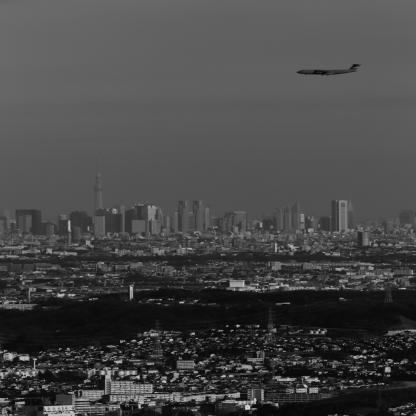C5: (297, 65, 363, 77)
